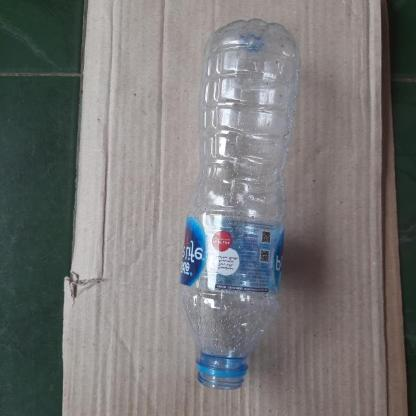Plastic Bottle: (178, 19, 301, 391)
